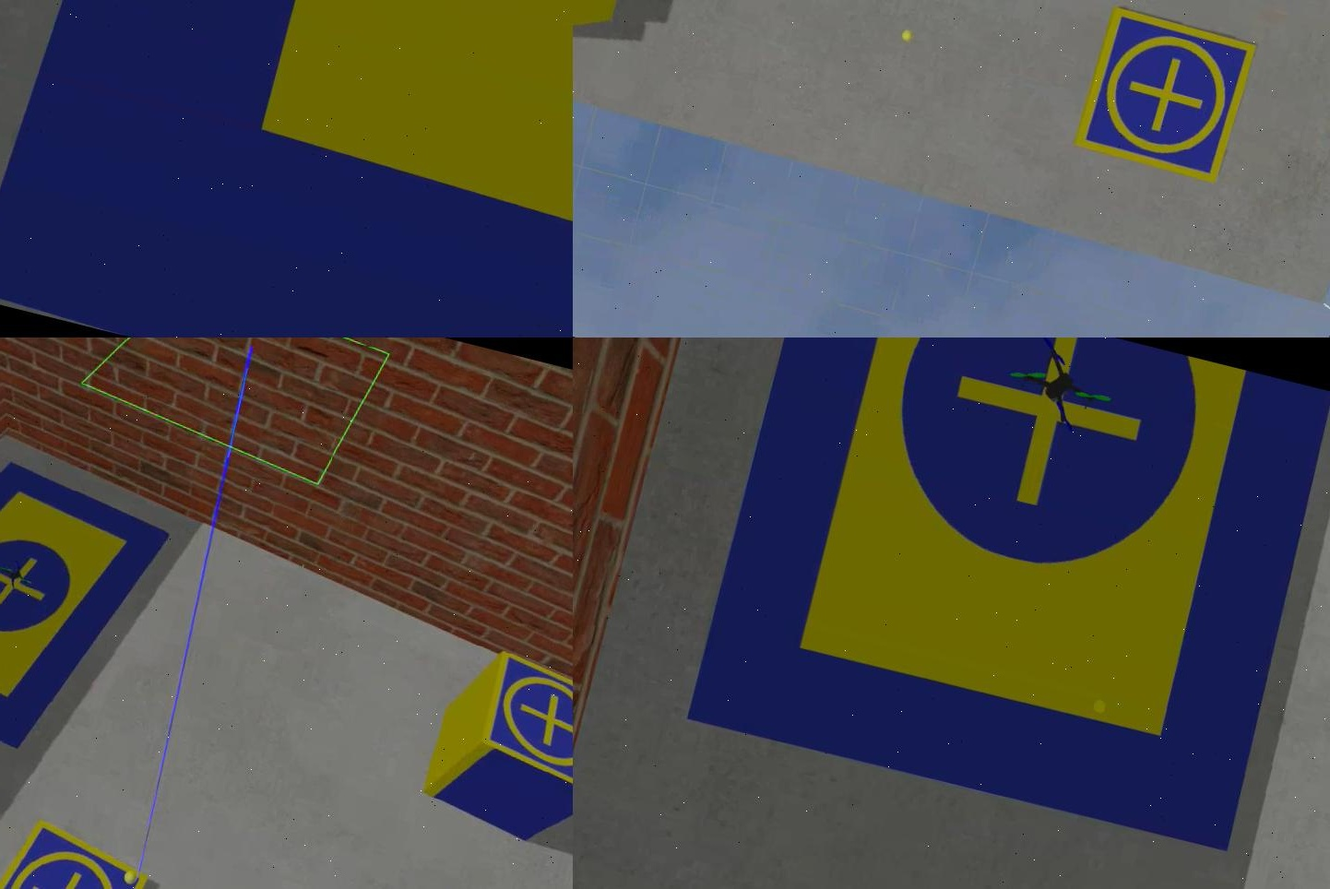large_base: (683, 338, 1328, 857), (0, 1, 572, 338), (0, 426, 179, 776)
small_base: (1068, 4, 1260, 189), (469, 649, 572, 805), (0, 808, 157, 889)
